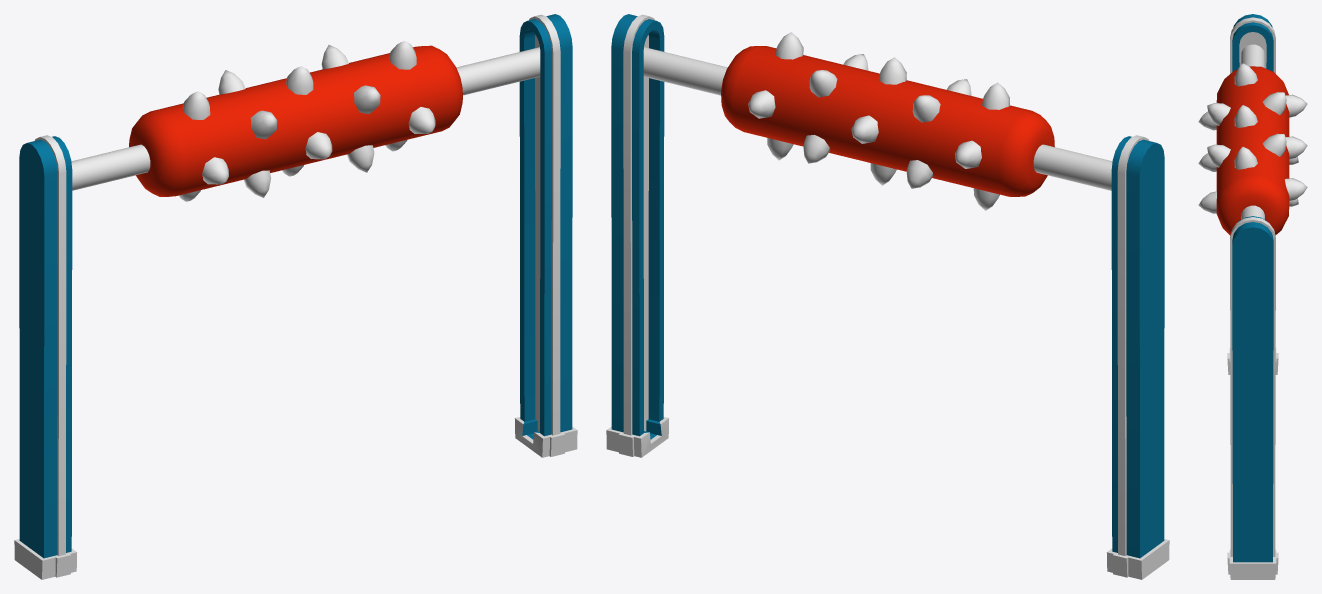
The model's file is Obs_4.fbx.
3 renders of one model, left to right at view 1: azimuth 30°, elevation 25°; view 2: azimuth 150°, elevation 25°; view 3: azimuth 270°, elevation 25°, orthographic. The views are drawn at different scales.
Visible parts, largest first — view 1: Obs_4; view 2: Obs_4; view 3: Obs_4.
Part boxes in pixels (x1,y1,x2,y2): Obs_4: (14, 14, 577, 579); Obs_4: (606, 14, 1169, 579); Obs_4: (1198, 14, 1307, 579).
Bounding box in the file's own units: 3.34 × 2.64 × 0.7143.
